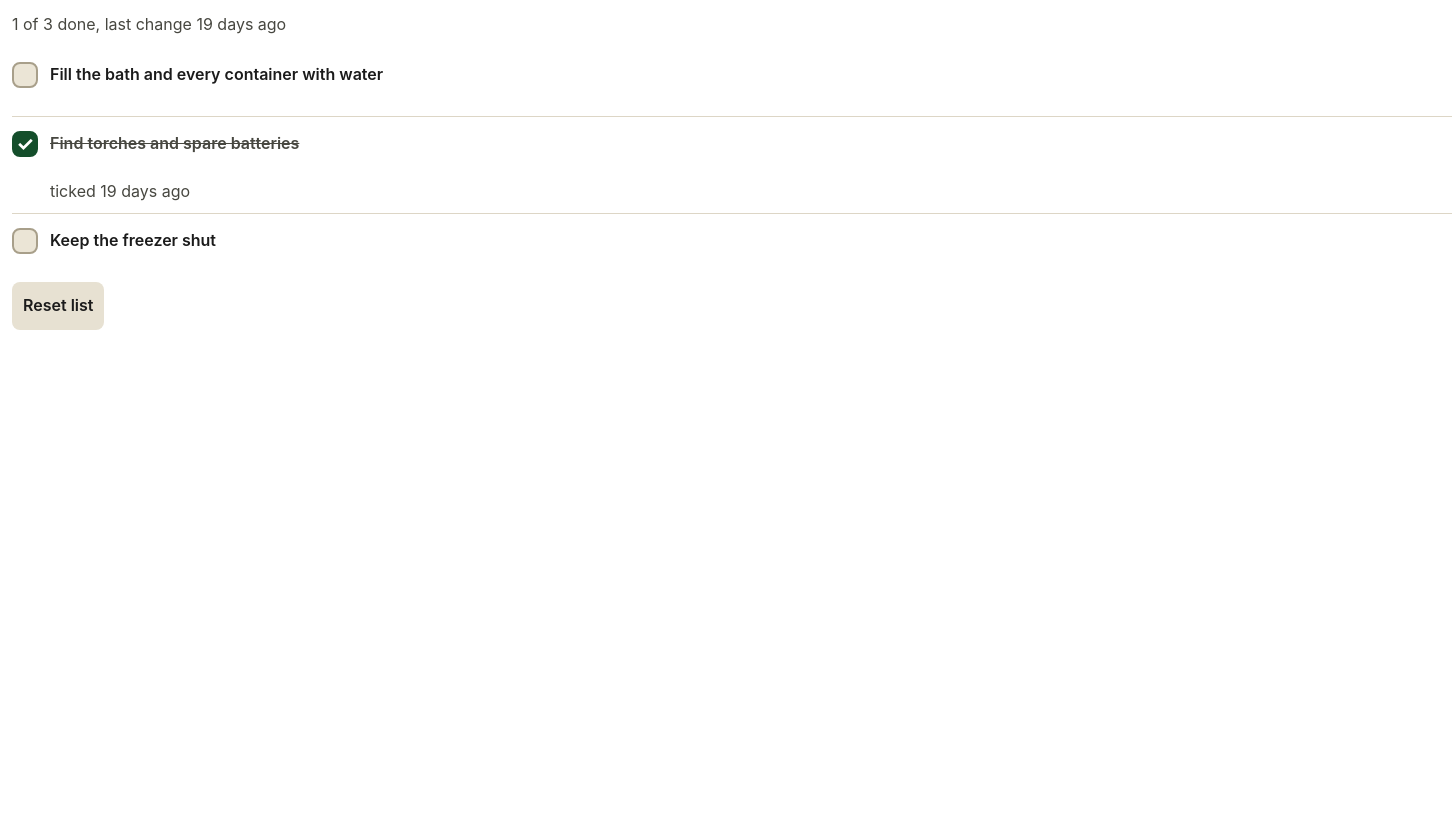
Test case: Checklist › reverts and shows a notice when the save fails
Click the checkbox labelled "Fill the bath and every container with water": (25, 75) [12,62,38,88]
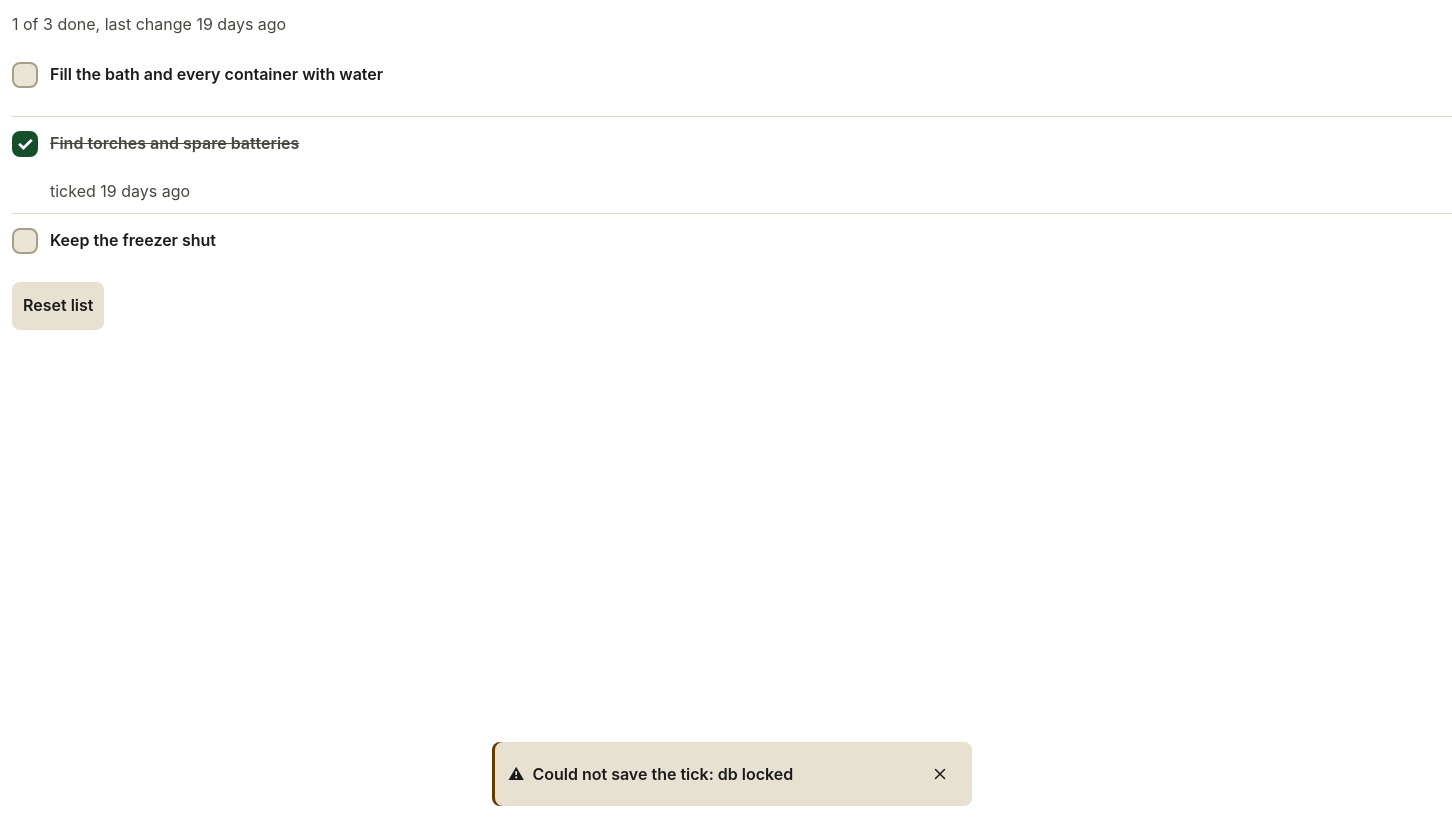
Check: the text with test id "checklist-summary" shows "1 of 3 done", box [12,14,286,34]
Check: the text "Could not save the tick: db locked" is shown, box [532,764,793,784]
